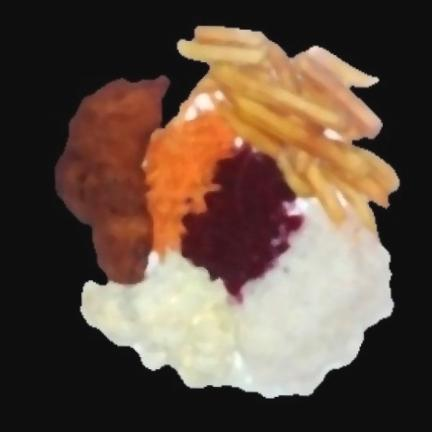beet: (183, 146, 303, 296)
carrot: (145, 111, 235, 254)
chicken: (56, 77, 169, 284)
potato: (179, 27, 399, 229)
